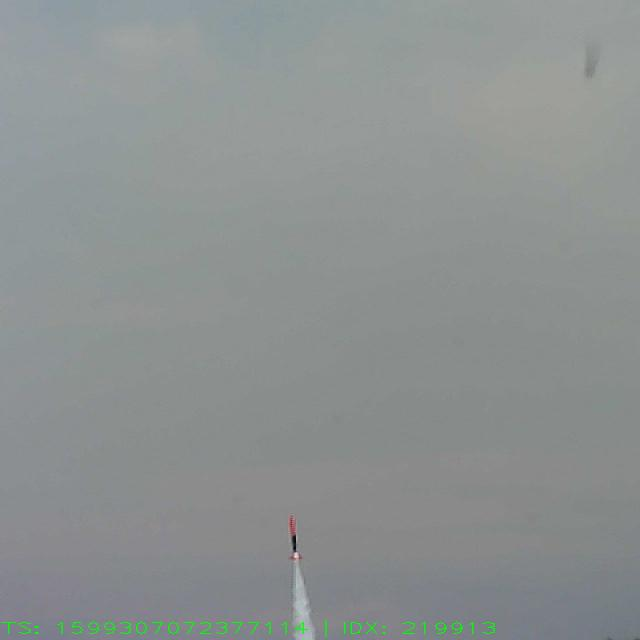Rocket: (287, 514, 305, 560)
